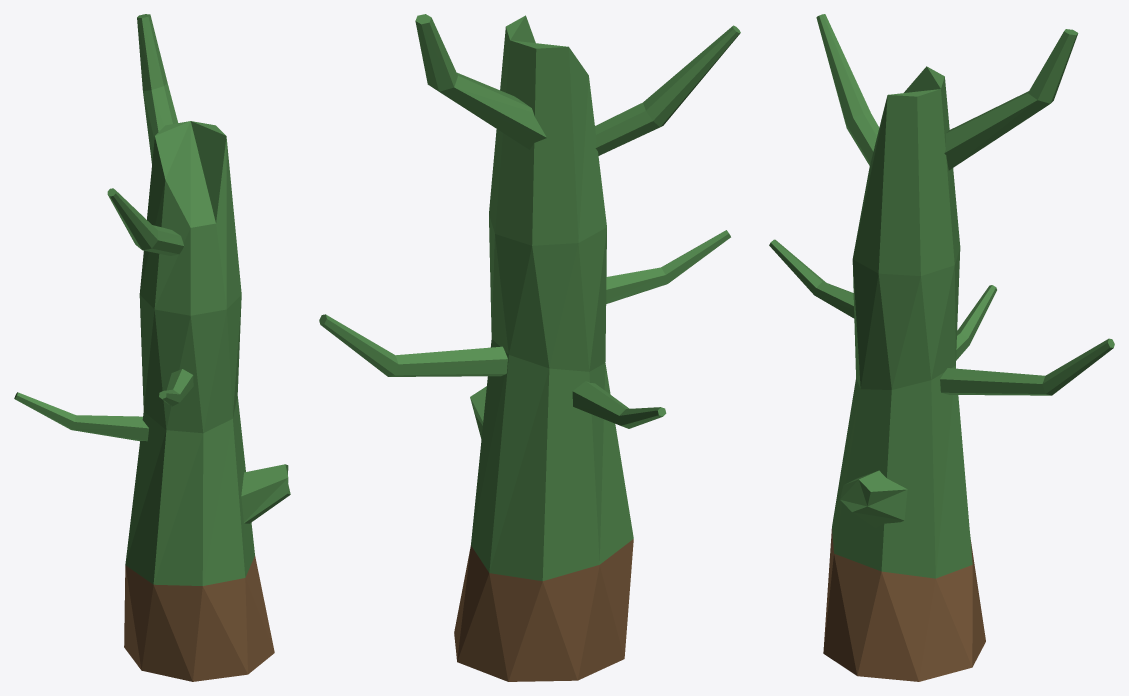
Rendered from tree3d-085.glb.
3 renders of one model, left to right at view 1: azimuth 30°, elevation 25°; view 2: azimuth 150°, elevation 25°; view 3: azimuth 270°, elevation 25°, orthographic. The views are drawn at different scales.
Visible parts, largest first — view 1: tree3d-085; view 2: tree3d-085; view 3: tree3d-085.
Boxes of the visible parts, x1,y1,x2,y2 form: tree3d-085: (14, 14, 290, 681); tree3d-085: (319, 14, 740, 681); tree3d-085: (769, 14, 1114, 681).
Bounding box in the file's own units: 0.4271 × 1 × 0.4991.
